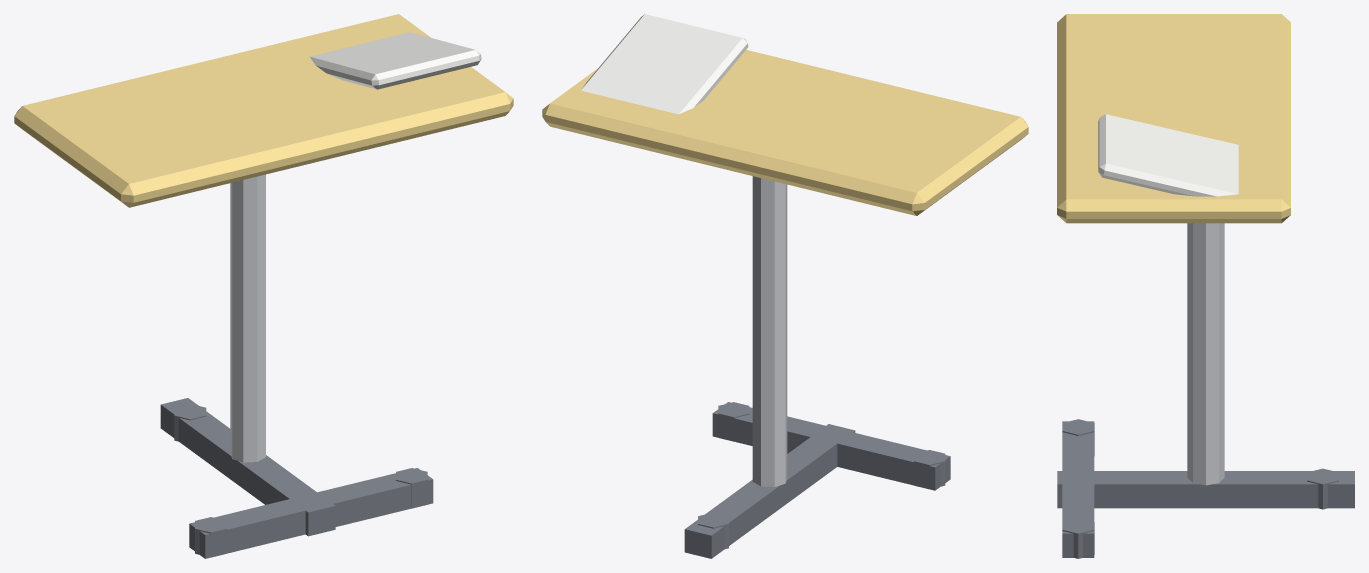
The model's file is hospital_mesa_cama.glb.
The picture shows the model from 3 angles, left to right: view 1: azimuth 30°, elevation 25°; view 2: azimuth 150°, elevation 25°; view 3: azimuth 270°, elevation 25°; orthographic projection. The views are drawn at different scales.
Parts seen in each view (by area): view 1: over-bed-table; view 2: over-bed-table; view 3: over-bed-table.
Part boxes in pixels (left/top/right/bottom): over-bed-table: left=14, top=14, right=513, bottom=558; over-bed-table: left=542, top=14, right=1028, bottom=558; over-bed-table: left=1057, top=14, right=1354, bottom=558.
Size of the model in its own units: 0.86 by 0.8837 by 0.56.
